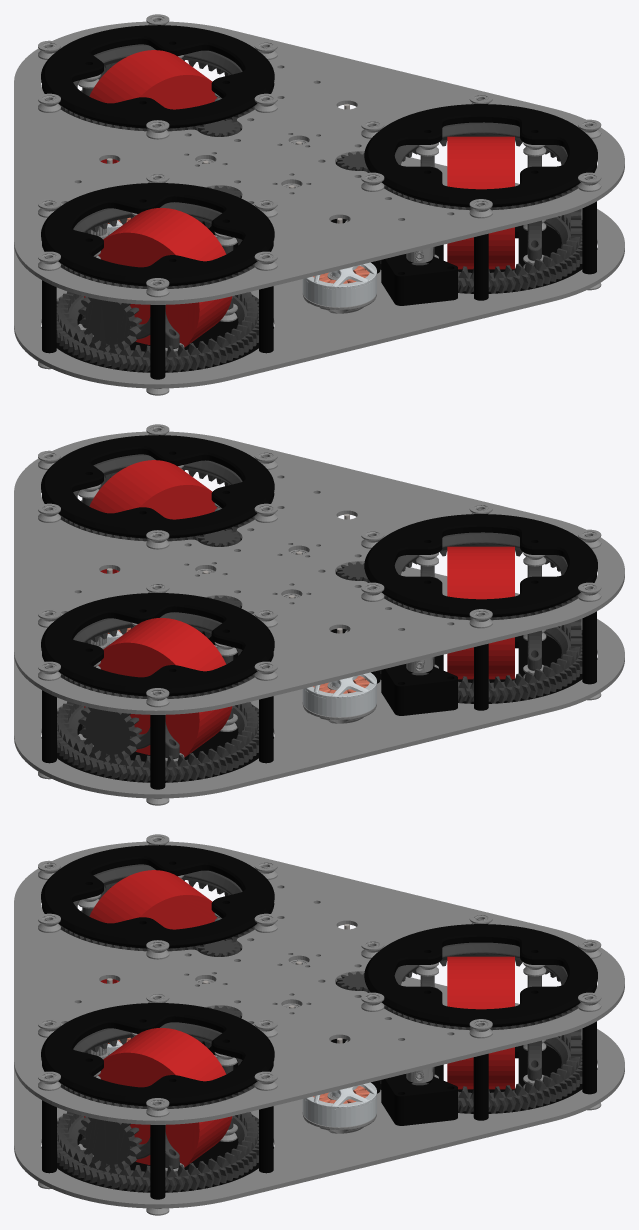
File: swerve-drive.glb
3 renders of one model, top to bottom at view 1: azimuth 30°, elevation 25°; view 2: azimuth 150°, elevation 25°; view 3: azimuth 270°, elevation 25°, orthographic.
Parts seen in each view (by area): view 1: Body9_11, Body1; view 2: Body9_11, Body1; view 3: Body9_11, Body1.
Part boxes in pixels (bbox=[...]): Body9_11: bbox=[14, 14, 624, 395]; Body1: bbox=[41, 25, 597, 379]; Body9_11: bbox=[14, 424, 624, 805]; Body1: bbox=[41, 435, 597, 789]; Body9_11: bbox=[14, 834, 624, 1215]; Body1: bbox=[41, 845, 597, 1199].
Bounding box in the file's own units: 0.3718 × 0.0761 × 0.3436.
2 materials, 2 textured.
